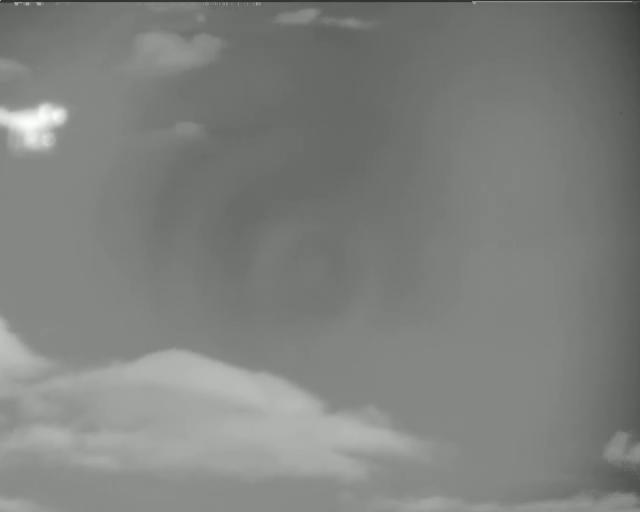uav: (1, 102, 71, 152)
